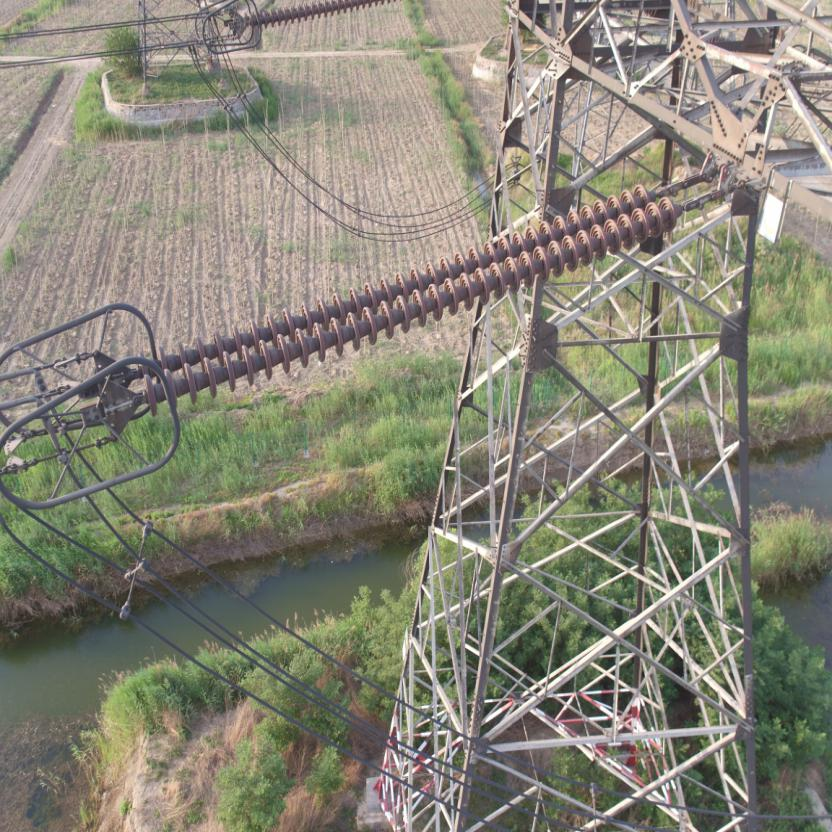insulator: (118, 174, 706, 420)
